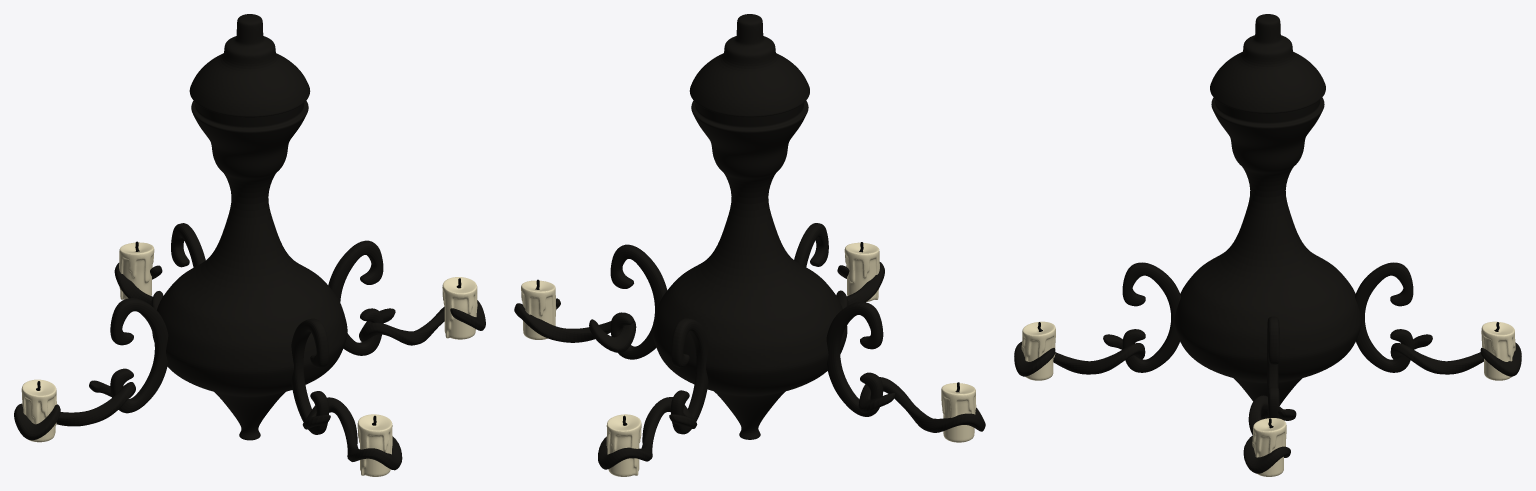
File: chandelier and candles.fbx
3 renders of one model, left to right at view 1: azimuth 30°, elevation 25°; view 2: azimuth 150°, elevation 25°; view 3: azimuth 270°, elevation 25°, orthographic. The views are drawn at different scales.
Visible parts, largest first — view 1: Sphere, Cylinder, Cylinder.001; view 2: Sphere, Cylinder.001, Cylinder; view 3: Sphere, Cylinder.001, Cylinder.
Part boxes in pixels (x1,y1,x2,y2): Sphere: [14, 14, 485, 470]; Cylinder: [21, 277, 477, 442]; Cylinder.001: [119, 241, 392, 476]; Sphere: [514, 14, 985, 469]; Cylinder.001: [606, 242, 879, 476]; Cylinder: [521, 279, 976, 442]; Sphere: [1014, 14, 1521, 473]; Cylinder.001: [1021, 321, 1515, 380]; Cylinder: [1252, 418, 1286, 476].
Size of the model in its own units: 286 by 247 by 281.
